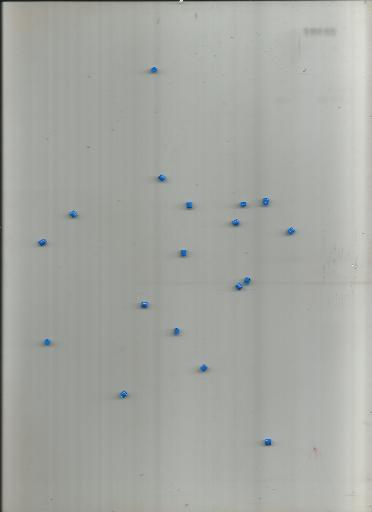Pellet: (196, 362, 209, 373), (170, 327, 181, 338), (234, 281, 244, 293), (139, 300, 150, 310), (242, 275, 251, 287), (157, 173, 167, 183), (42, 337, 53, 346), (119, 388, 128, 398), (37, 238, 47, 247), (287, 226, 296, 235), (262, 197, 270, 207), (68, 210, 78, 218), (231, 218, 240, 226), (265, 438, 272, 447), (186, 200, 193, 209), (180, 249, 187, 257), (240, 201, 247, 209), (150, 66, 157, 74)
